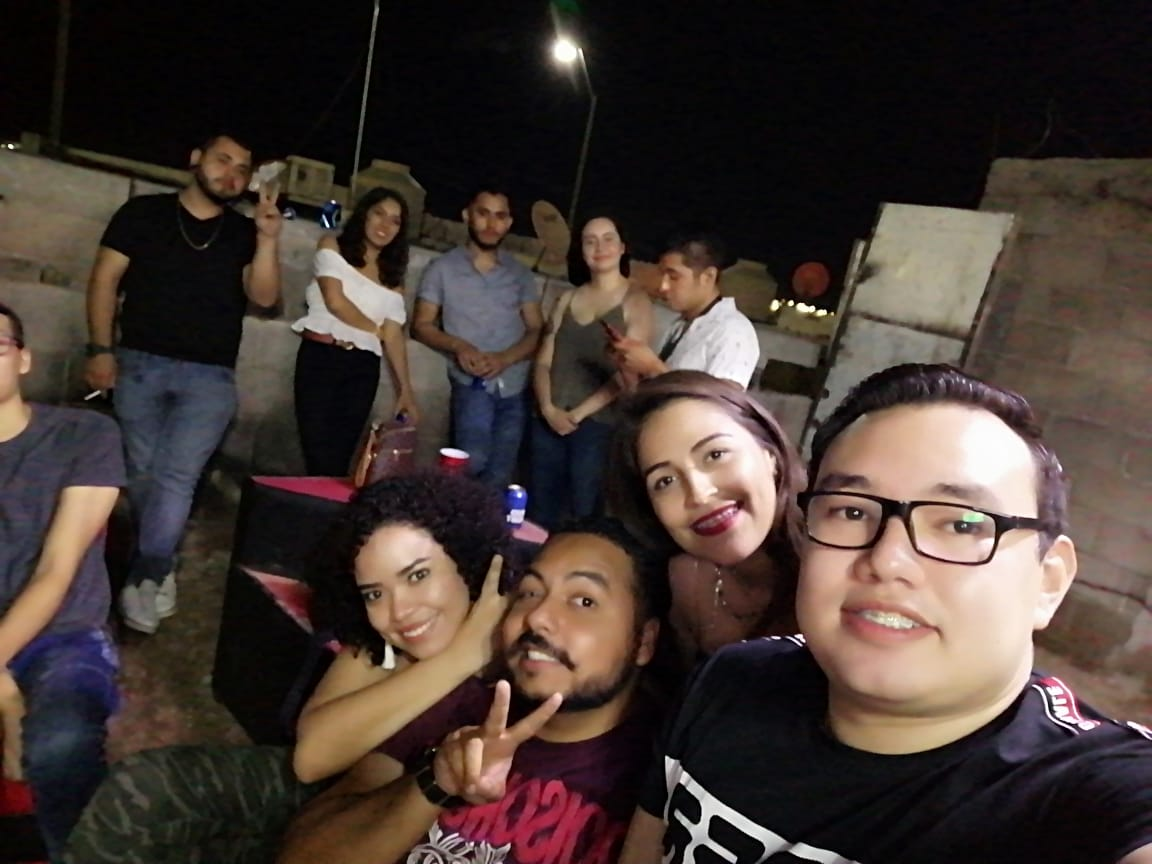Yoshi: (482, 487, 654, 767)
